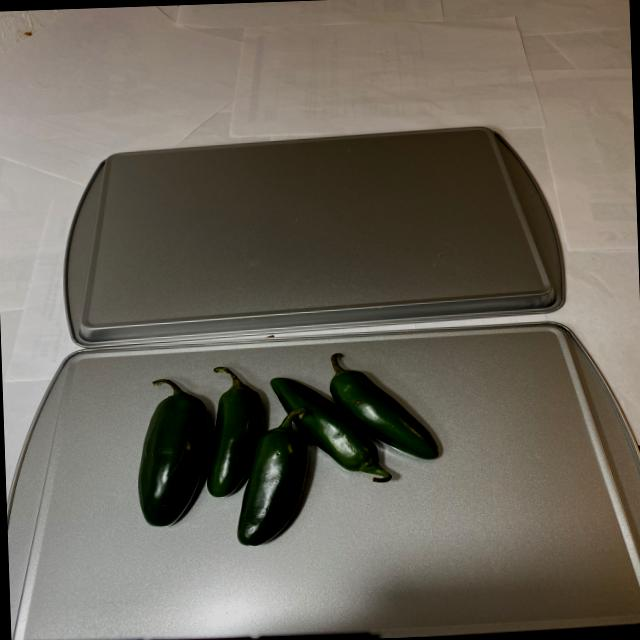chilli: (108, 350, 455, 556)
